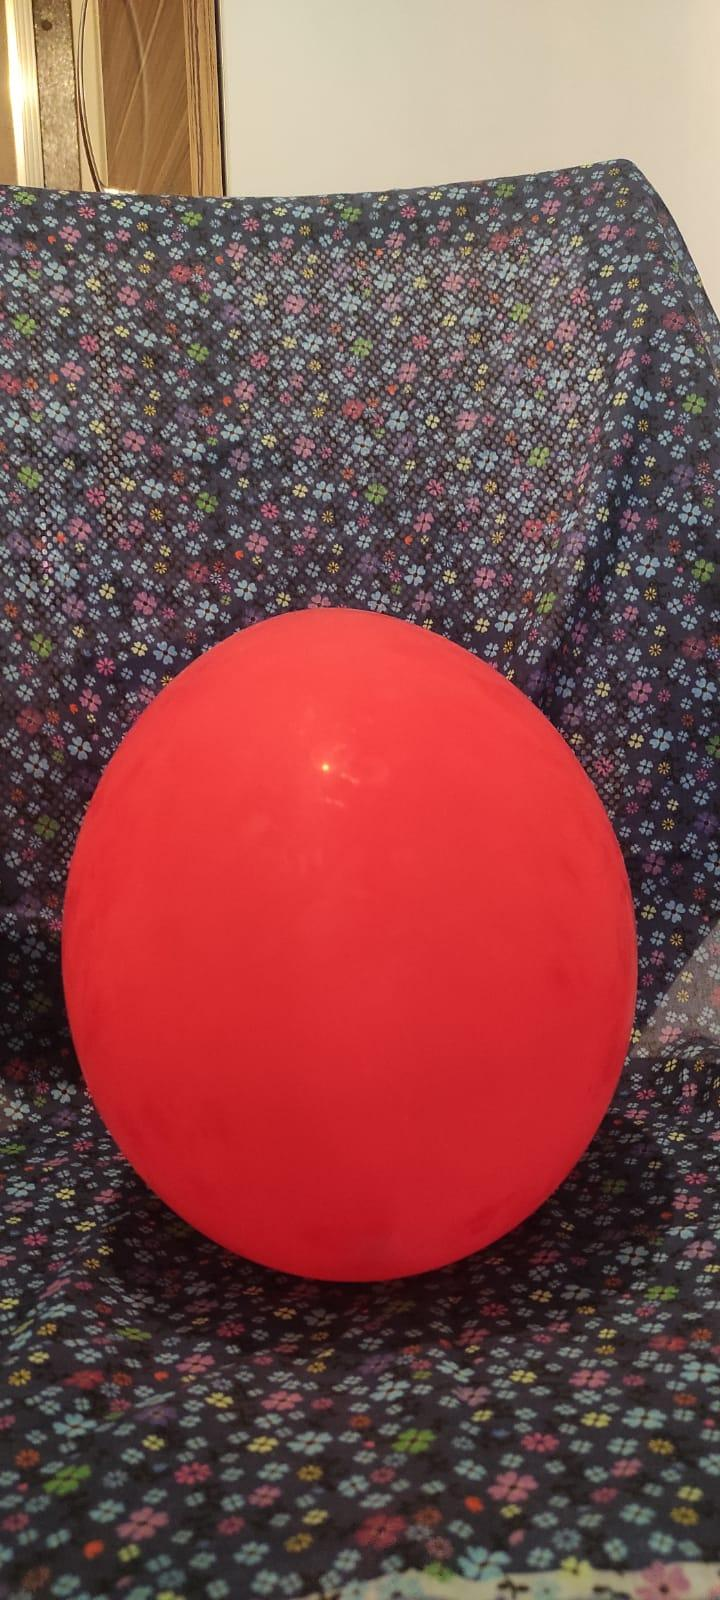red: (51, 597, 636, 1283)
